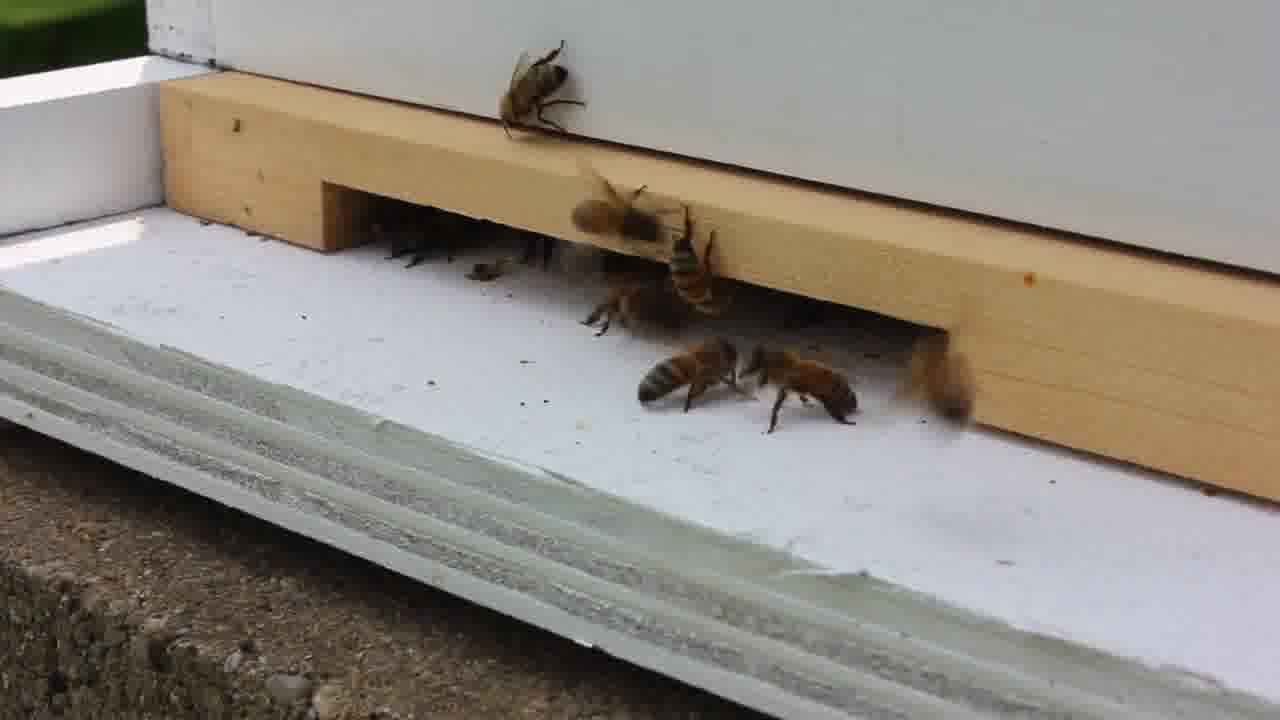pollen: (633, 343, 745, 412)
